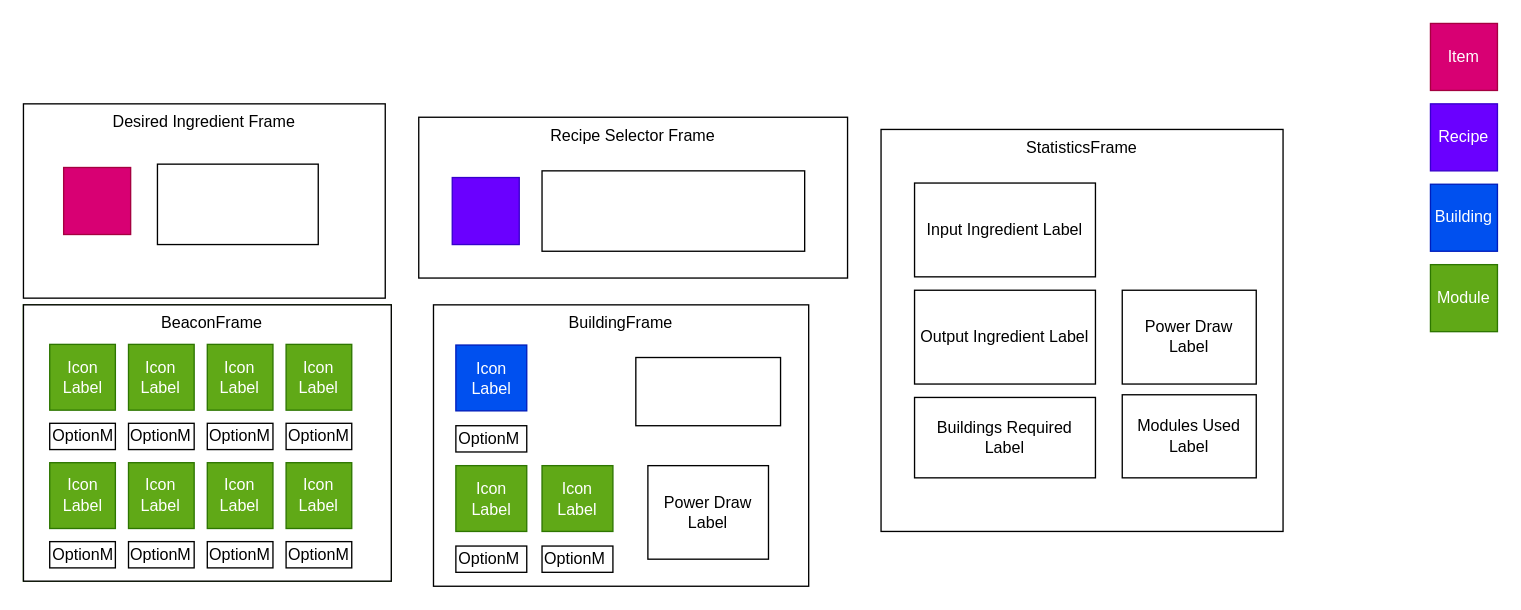
Some shapes in this 1521 by 610 pixel diagram are drawn without their labels. Here are the shapes that lost their labels. From the top down, the centre of each, then its label:
At pixel 96 200: "Desired Icon".
At pixel 237 204: "Desired Label e.g. iron ore (5/s)".
At pixel 485 210: "Recipe Icon".
At pixel 673 210: "Recipe Option Menu".
At pixel 707 391: "Crafting Speed Label".
